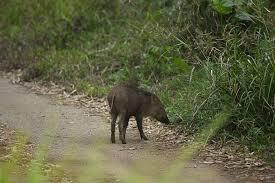wildboar: (104, 81, 173, 144)
